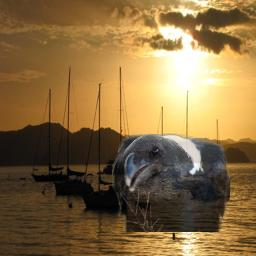Crow: (112, 133, 230, 232)
